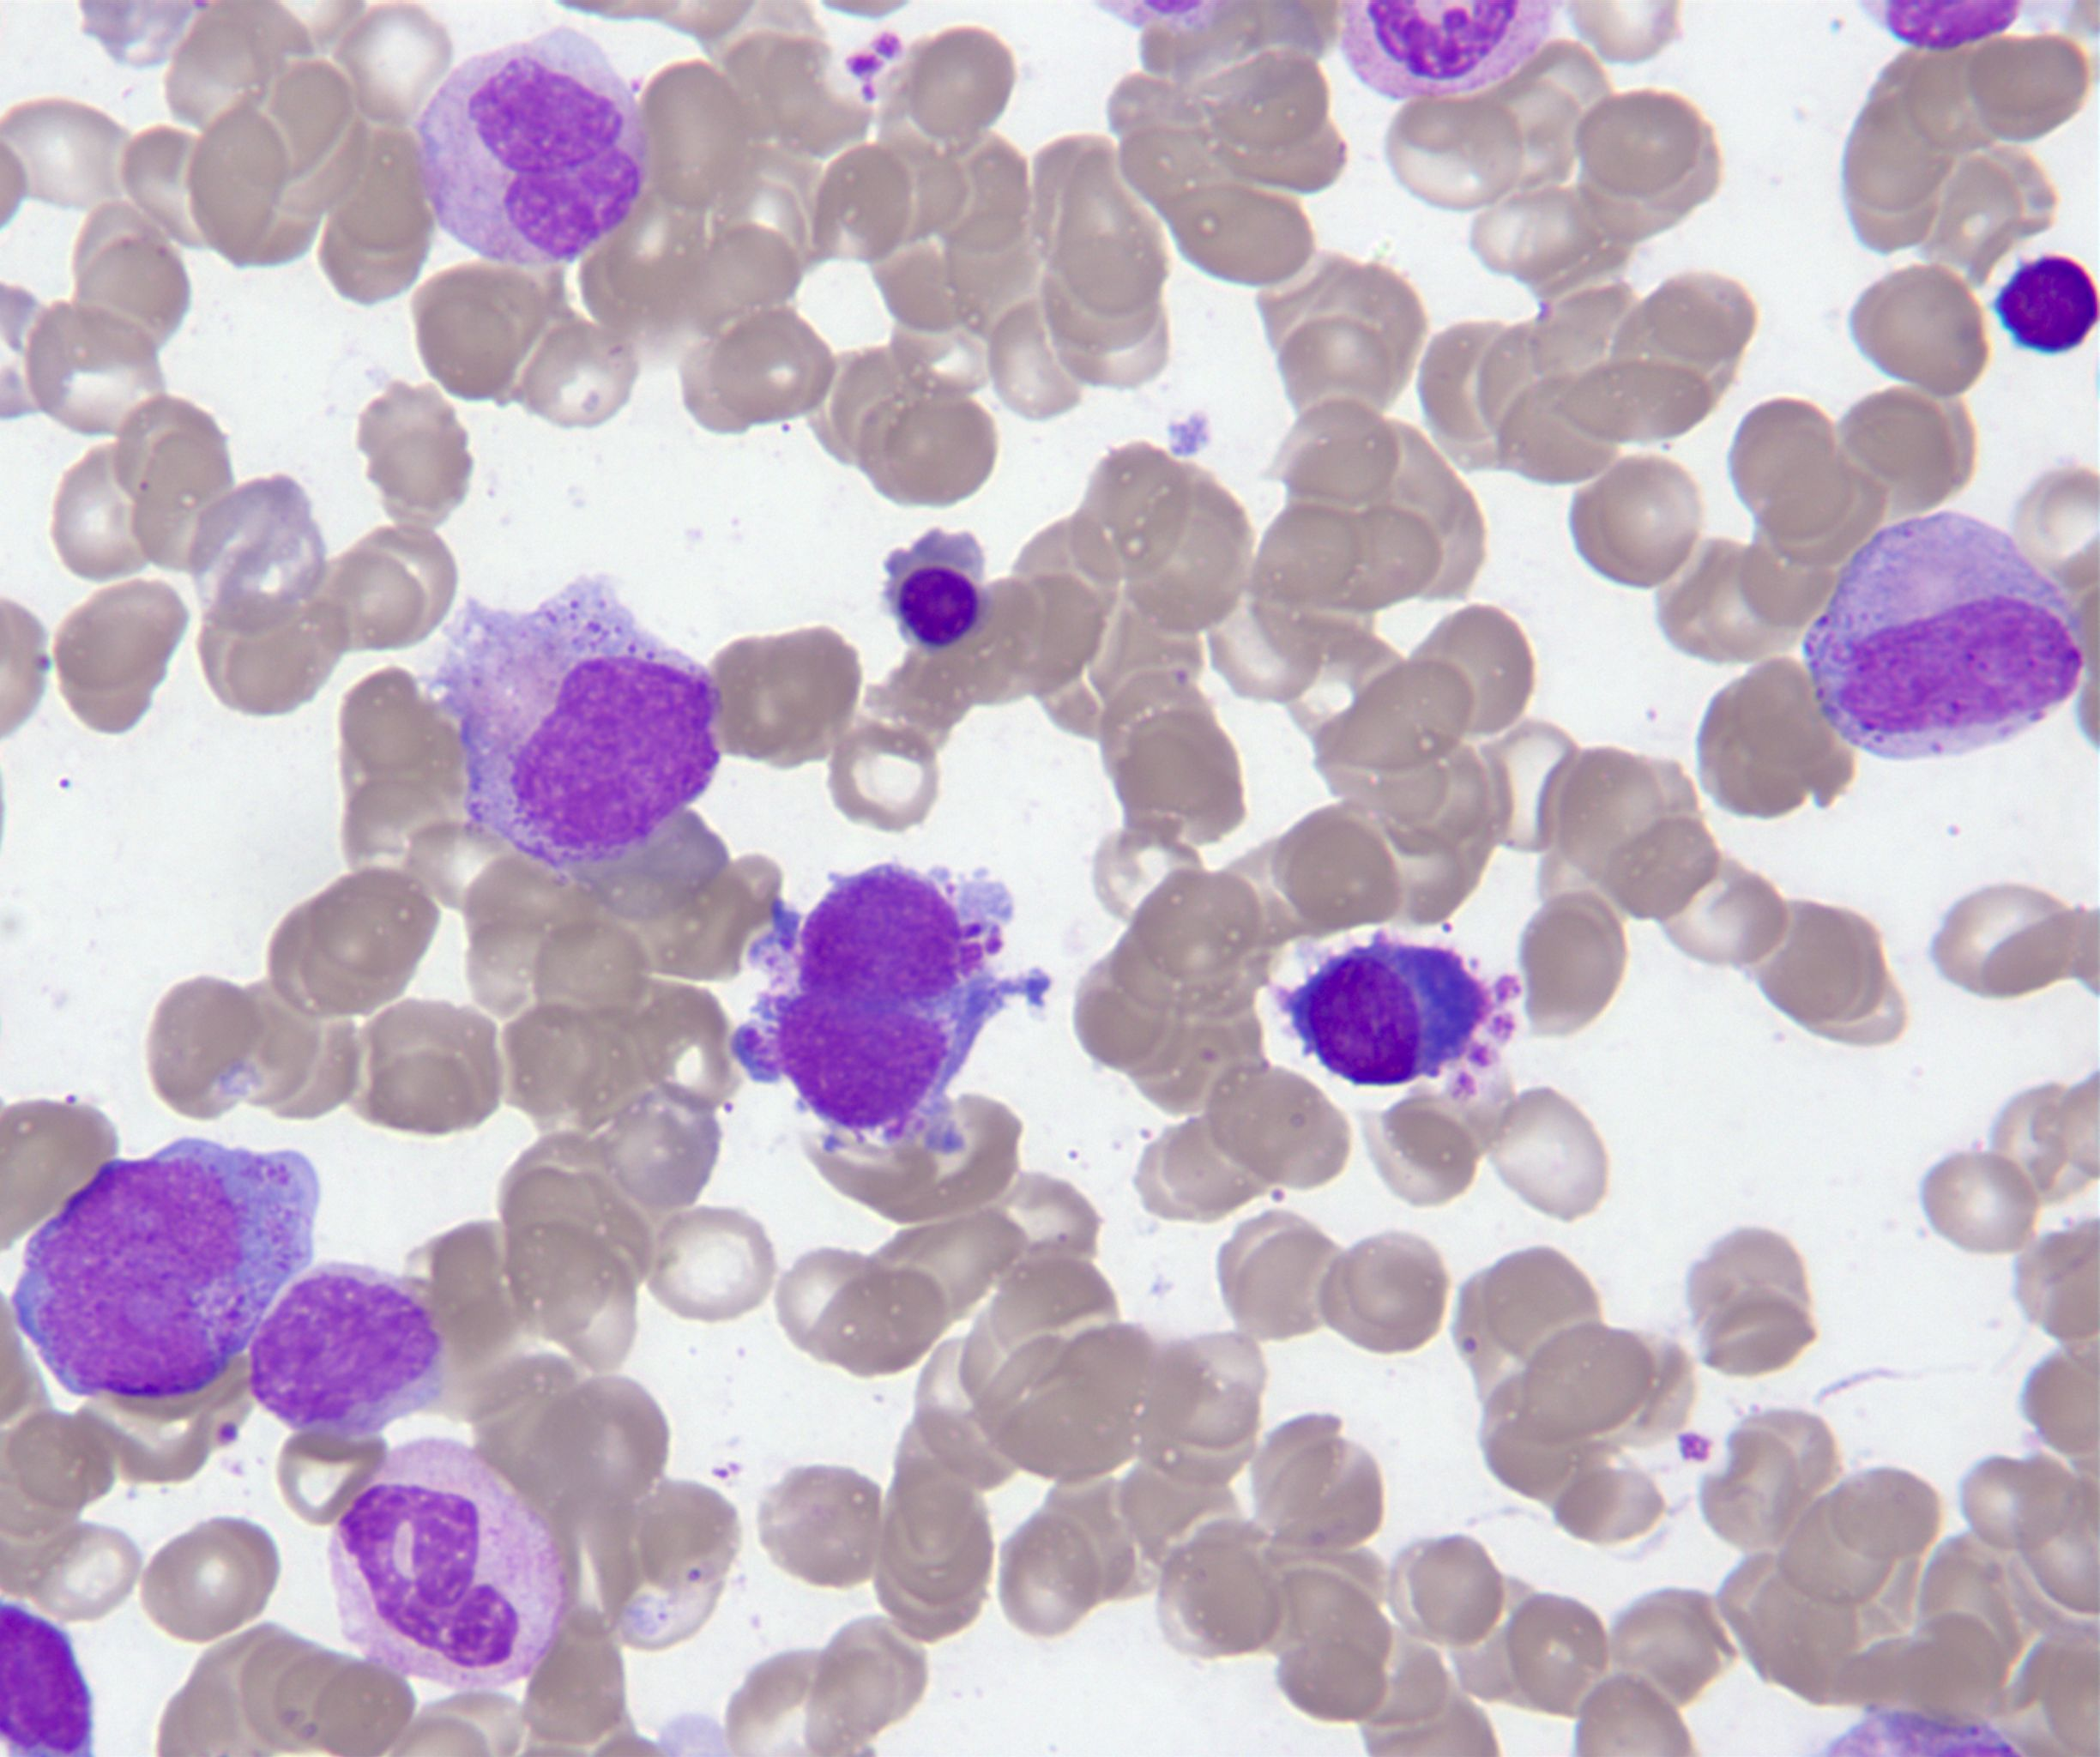2: (10, 1125, 324, 1401)
24: (870, 513, 1005, 656)
3: (422, 562, 729, 883), (1786, 501, 2100, 771)
4: (408, 21, 661, 274), (246, 1255, 452, 1450)
5: (321, 1427, 574, 1696)
52: (1268, 926, 1510, 1097)
x: (720, 857, 1055, 1162)
